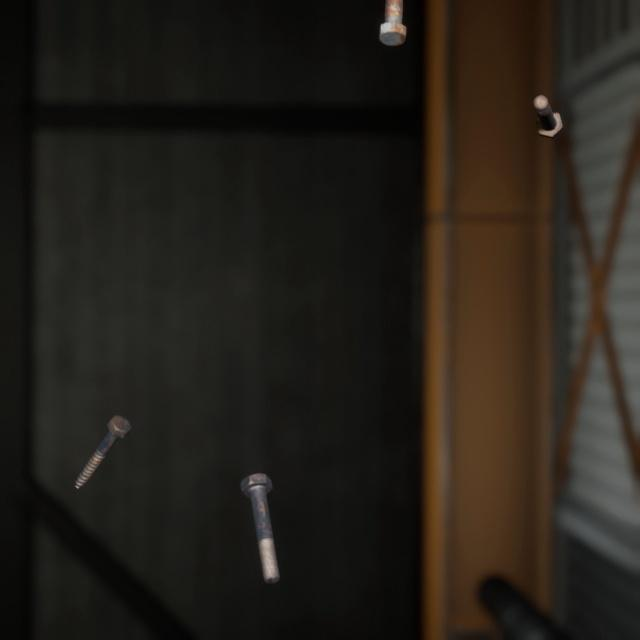bolt: (235, 446, 284, 565), (69, 390, 136, 472), (529, 78, 567, 131), (374, 0, 411, 46)
